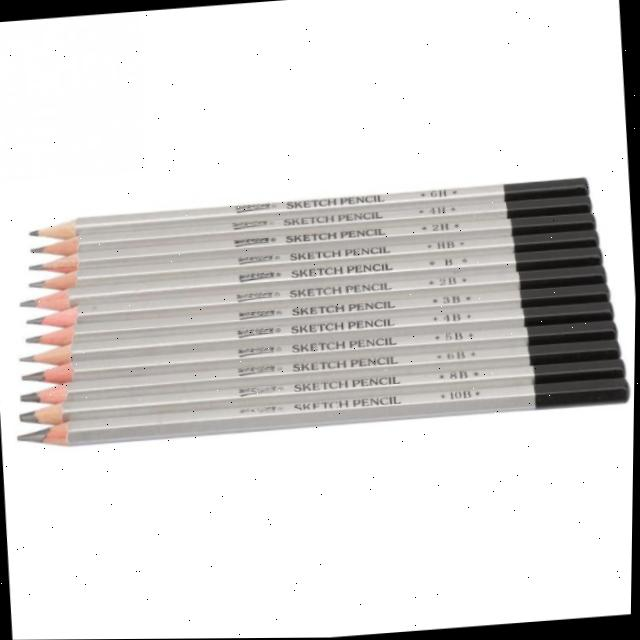pencil: (6, 377, 635, 454), (3, 357, 630, 427), (14, 318, 620, 388), (13, 339, 625, 407), (12, 246, 609, 314), (15, 301, 620, 367), (22, 191, 597, 259), (21, 283, 616, 348), (18, 266, 612, 330), (19, 211, 600, 275), (26, 176, 594, 241), (17, 228, 603, 290)
